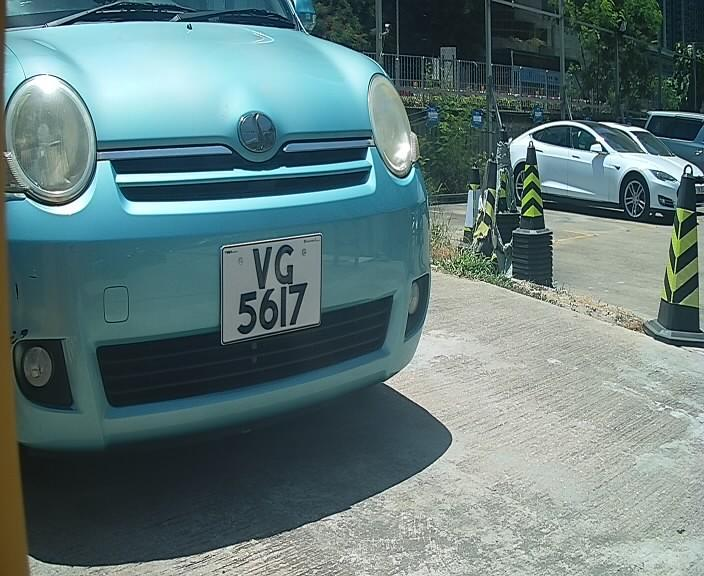privatecar: (4, 8, 469, 469)
